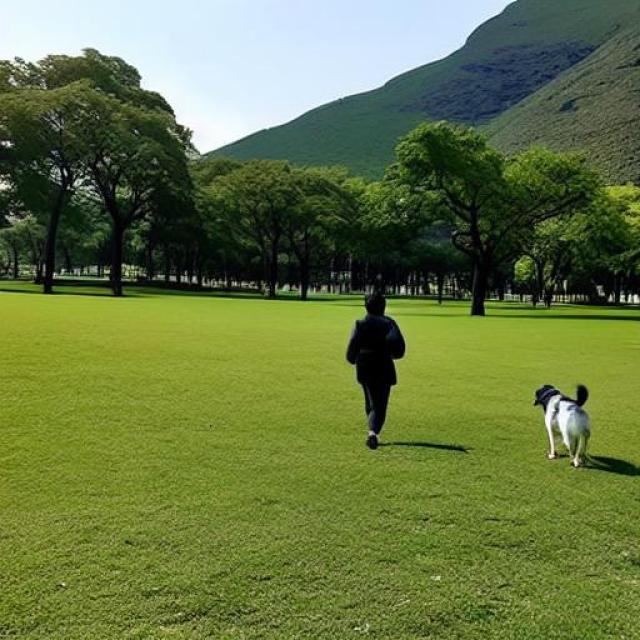Unleashed_Dog: (361, 383, 591, 469)
